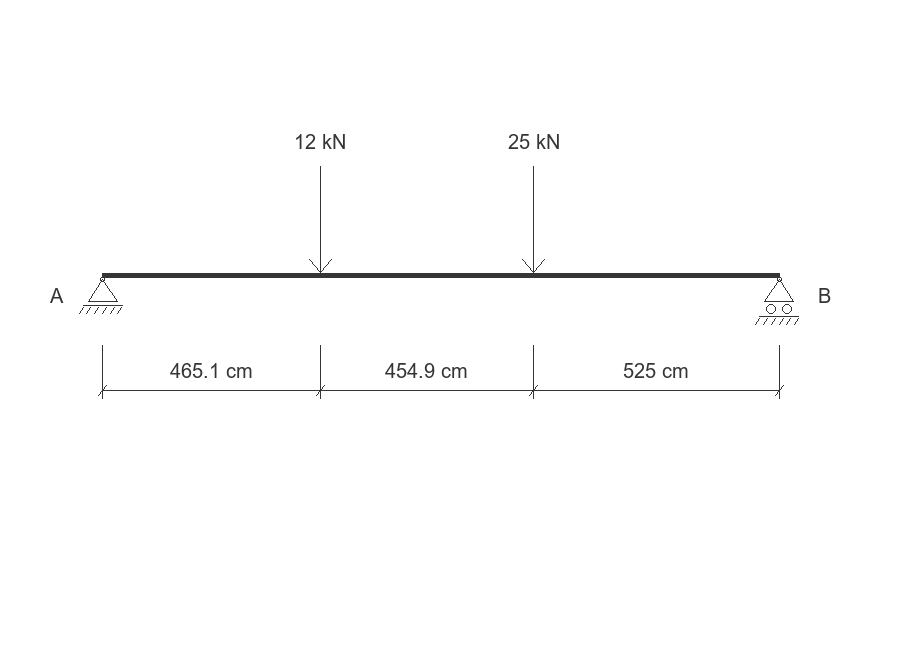pin_support: (79, 277, 123, 314)
point_load: (309, 166, 332, 273), (522, 166, 545, 273)
roller_support: (755, 277, 799, 325)
